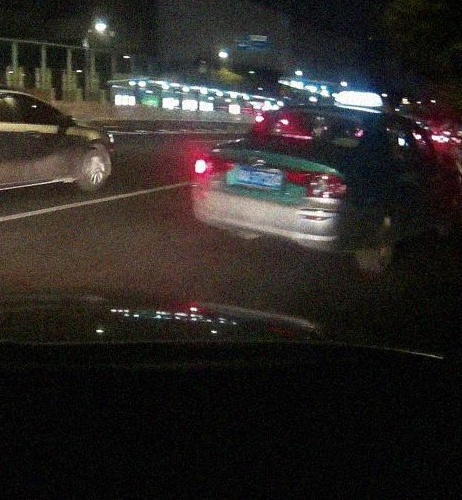L_light: (193, 155, 235, 176)
R_light: (284, 169, 348, 197)
T_light: (281, 132, 313, 140)
night-left: (190, 104, 375, 269)
